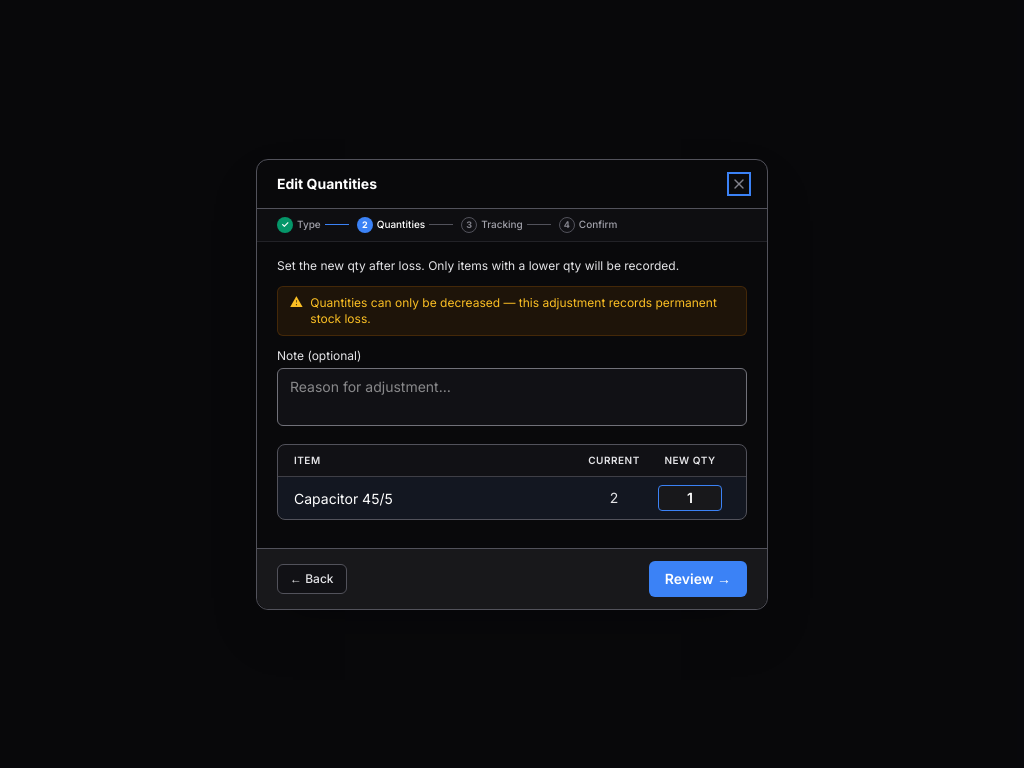
serial preselection via initialSerialUnitId › omitting initialSerialUnitId leaves the picker empty
Click the button "Review →". click: (698, 578)
box: [649,560,747,596]
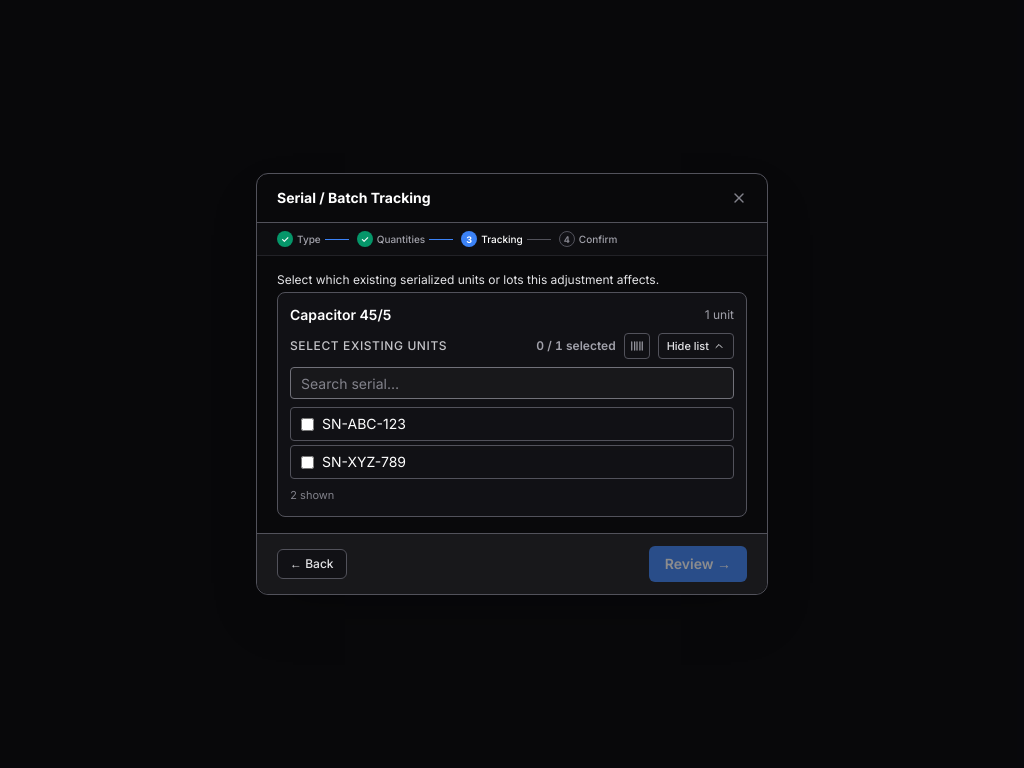
Check: the checkbox named "Select unit SN-ABC-123" is not checked, box [301,418,314,431]
Check: the checkbox named "Select unit SN-XYZ-789" is not checked, box [301,456,314,469]
